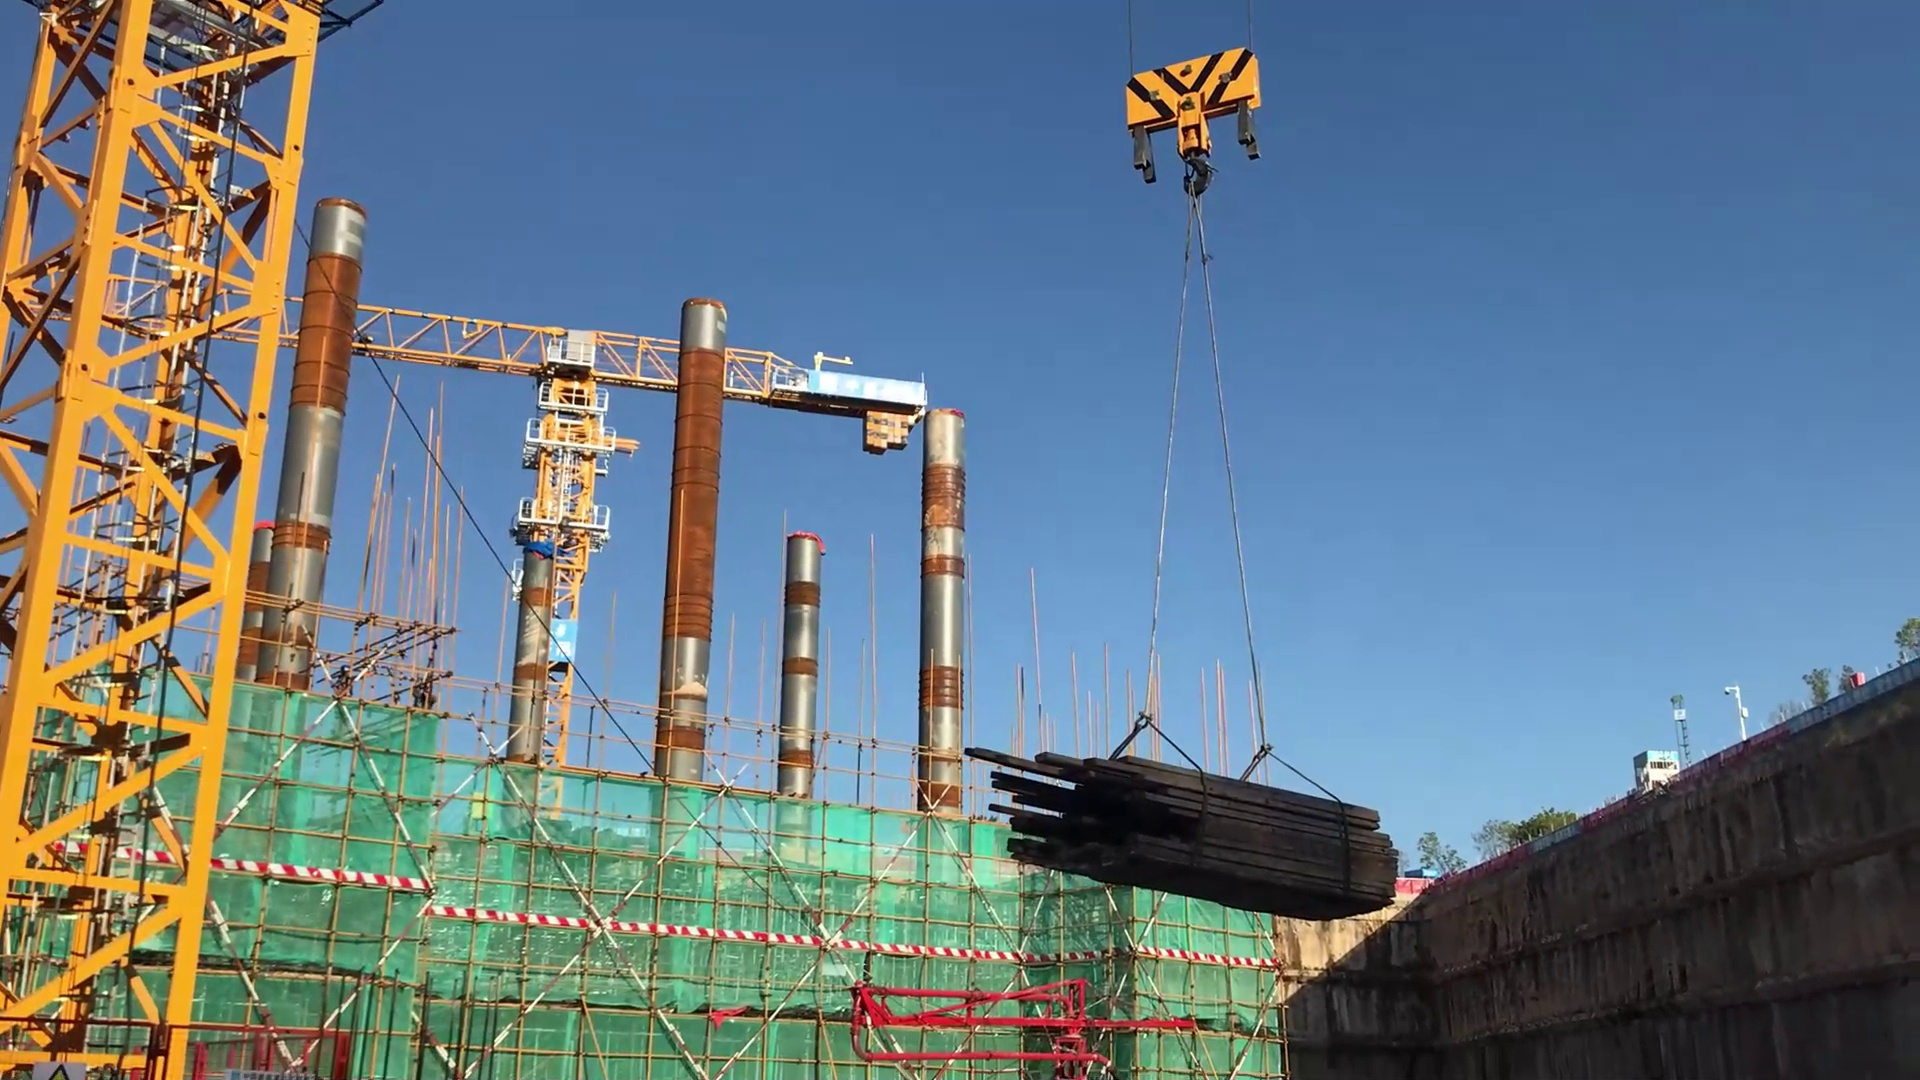hook: (1118, 46, 1263, 208)
wood: (961, 735, 1404, 927)
